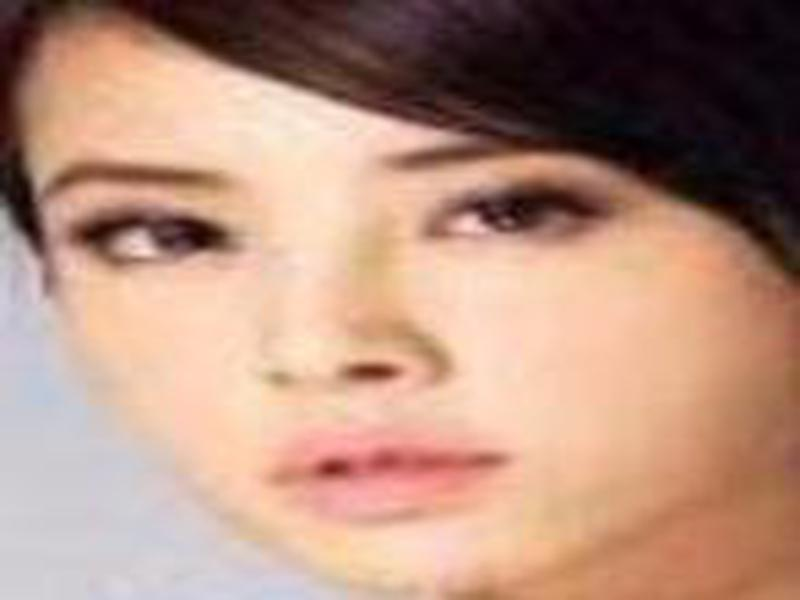without_mask: (4, 12, 791, 597)
